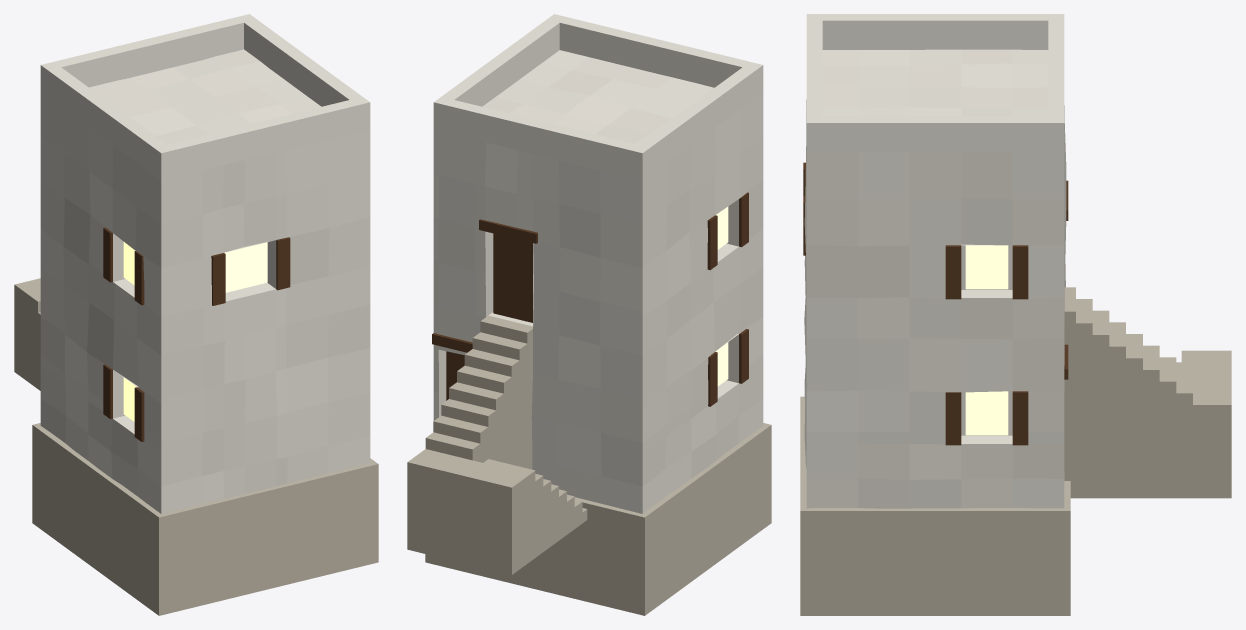
Rendered from house_c.glb.
3 views of the same model, side by side, from view 1: azimuth 30°, elevation 25°; view 2: azimuth 150°, elevation 25°; view 3: azimuth 270°, elevation 25° (orthographic). The views are drawn at different scales.
Visible parts, largest first — view 1: house_c, house_c_windows; view 2: house_c, house_c_windows; view 3: house_c, house_c_windows.
Part boxes in pixels (x1=…): house_c: x1=14, y1=14, x2=378, y2=615; house_c_windows: x1=123, y1=242, x2=267, y2=421; house_c: x1=407, y1=14, x2=771, y2=615; house_c_windows: x1=715, y1=206, x2=728, y2=386; house_c: x1=800, y1=14, x2=1231, y2=615; house_c_windows: x1=965, y1=245, x2=1008, y2=435.
Bounding box in the file's own units: 4.2 × 8.4 × 6.7.
